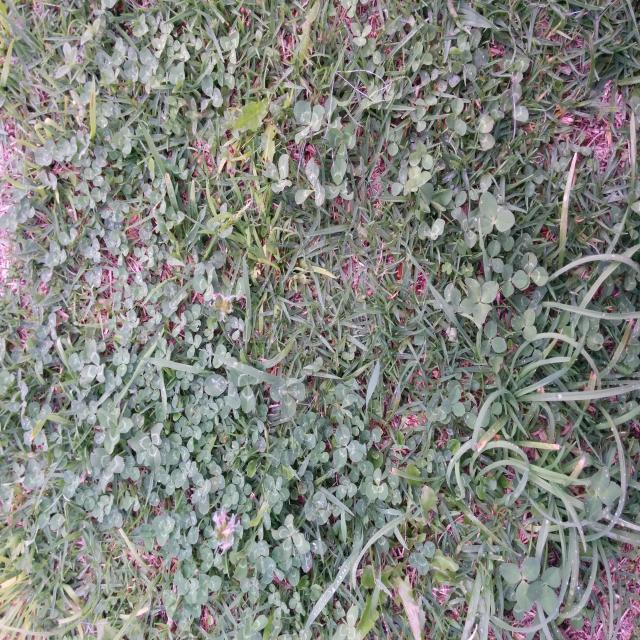Four Leaf Clover: (271, 514, 310, 562), (408, 541, 436, 576)
